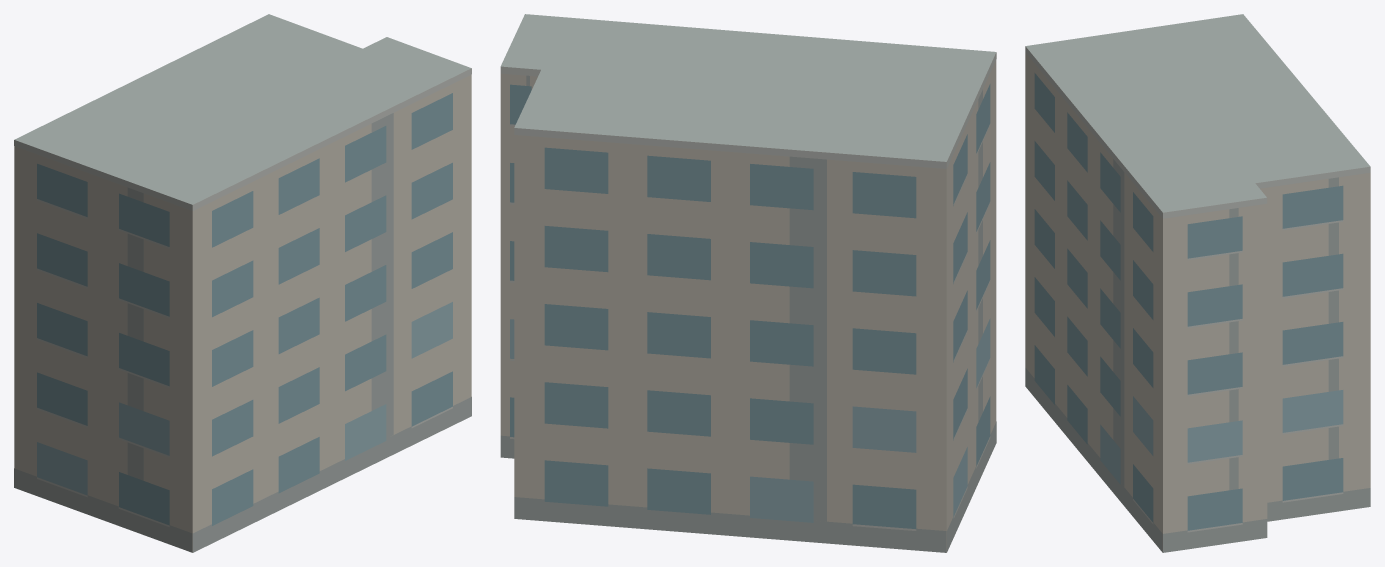
Rendered from survey-upis-32863000.glb.
3 renders of one model, left to right at view 1: azimuth 30°, elevation 25°; view 2: azimuth 150°, elevation 25°; view 3: azimuth 270°, elevation 25°, orthographic. The views are drawn at different scales.
Visible parts, largest first — view 1: survey-upis-32863000.tmp; view 2: survey-upis-32863000.tmp; view 3: survey-upis-32863000.tmp.
Part boxes in pixels (x1=…): survey-upis-32863000.tmp: x1=14, y1=14, x2=471, y2=552; survey-upis-32863000.tmp: x1=500, y1=14, x2=996, y2=552; survey-upis-32863000.tmp: x1=1025, y1=14, x2=1370, y2=552.
Bounding box in the file's own units: 17.05 × 13.6 × 12.52.
